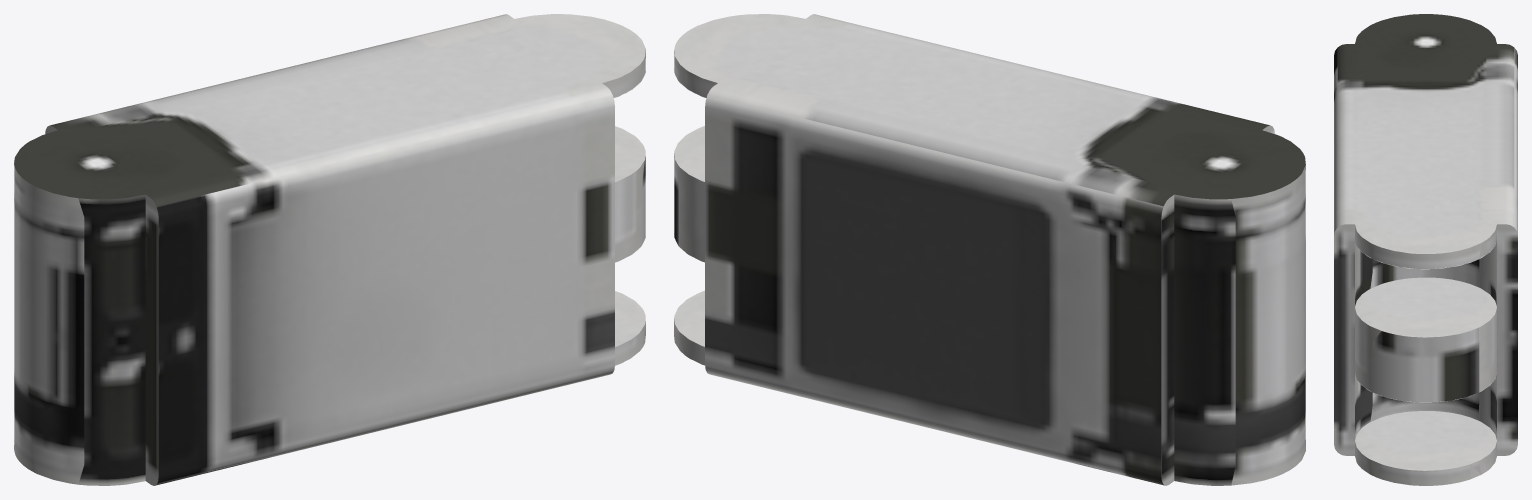
Rendered from finger01.dae.
The picture shows the model from 3 angles, left to right: view 1: azimuth 30°, elevation 25°; view 2: azimuth 150°, elevation 25°; view 3: azimuth 270°, elevation 25°; orthographic projection. The views are drawn at different scales.
Visible parts, largest first — view 1: simple_mesh_finger_01; view 2: simple_mesh_finger_01; view 3: simple_mesh_finger_01.
Boxes of the visible parts, x1=… form: simple_mesh_finger_01: x1=14, y1=14, x2=645, y2=485; simple_mesh_finger_01: x1=674, y1=14, x2=1305, y2=485; simple_mesh_finger_01: x1=1334, y1=14, x2=1517, y2=485.
Size of the model in its own units: 67.99 by 22 by 30.6.
Materials: 1 (1 with a texture image).
